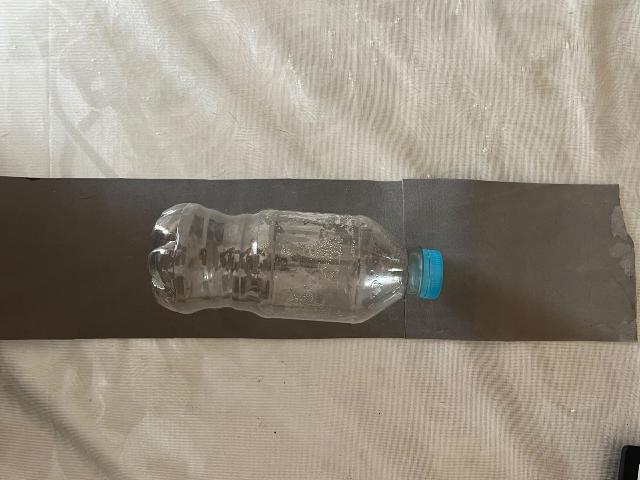PET: (113, 142, 507, 405)
